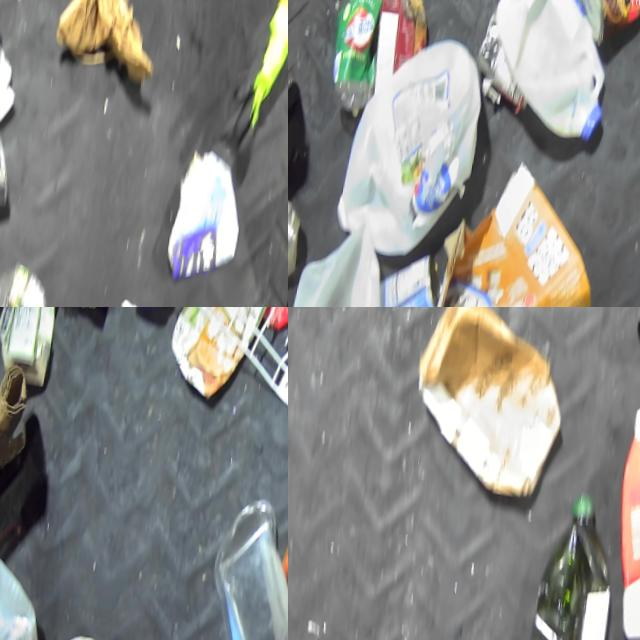can: (372, 242, 449, 307), (568, 0, 640, 52), (0, 114, 17, 226)
milk_jug: (333, 20, 492, 267), (479, 0, 624, 141), (288, 207, 403, 307), (0, 542, 55, 640)
non_white_jug: (527, 484, 627, 640), (605, 397, 640, 640)
plastic_bottle: (326, 0, 395, 115)
